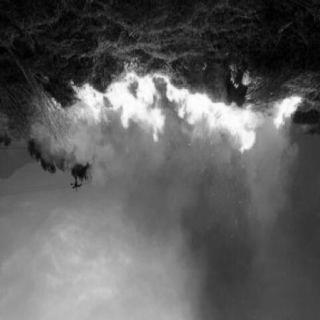Fire: (26, 61, 306, 159)
Smoke: (140, 161, 318, 317)
